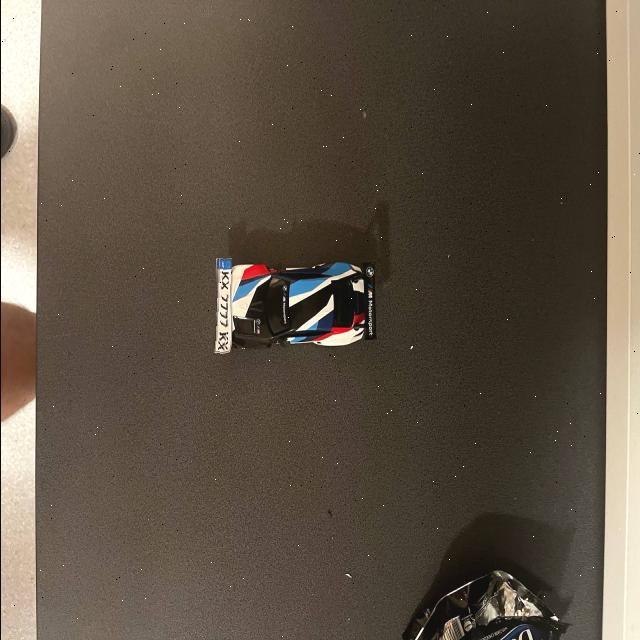KX 7777 KX: (212, 255, 230, 354)
